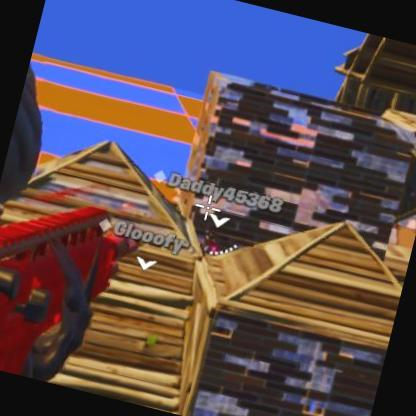person: (196, 227, 224, 260)
